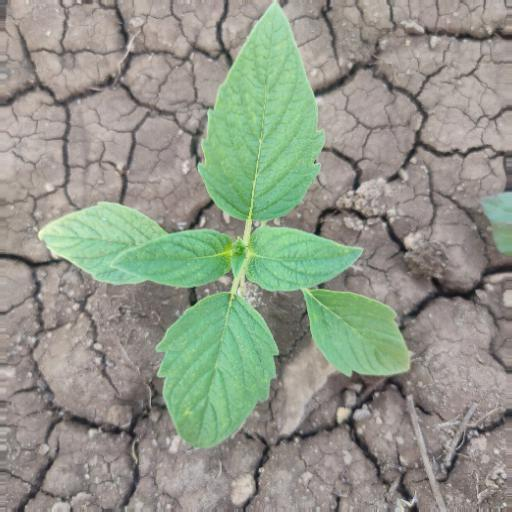crop: (32, 1, 427, 456)
